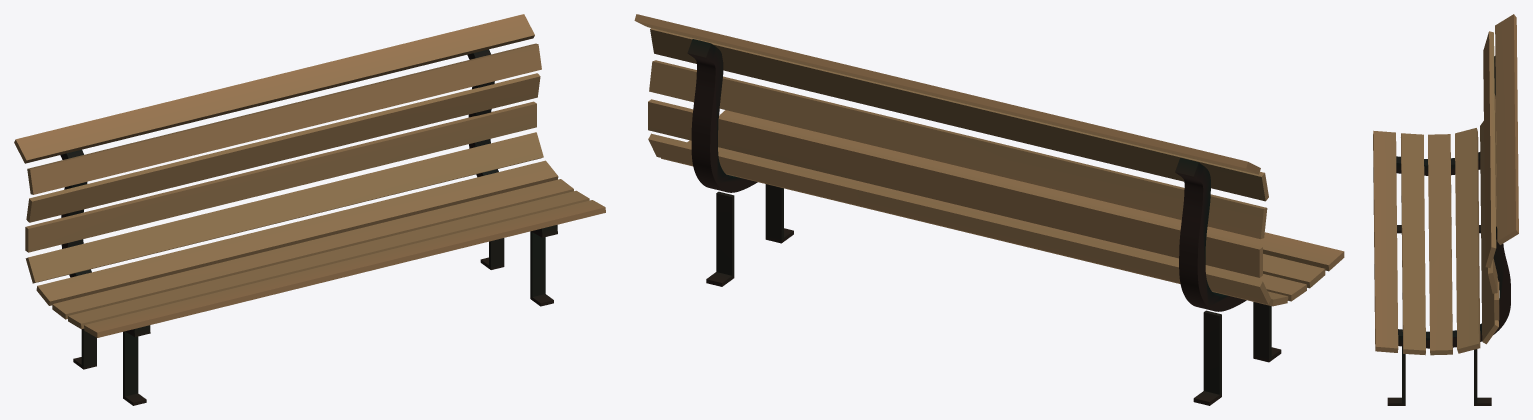
3 views of the same model, side by side, from view 1: azimuth 30°, elevation 25°; view 2: azimuth 150°, elevation 25°; view 3: azimuth 270°, elevation 25° (orthographic). The views are drawn at different scales.
Parts seen in each view (by area): view 1: wood_slat.007, wood_slat.004, wood_slat.008, wood_slat.005, wood_slat.006, wood_slat.003, wood_slat, wood_slat.002, wood_slat.001, leg, leg.002, curved_strap (+1 smaller); view 2: wood_slat.006, wood_slat.005, wood_slat.007, wood_slat.004, wood_slat.008, wood_slat, curved_strap.001, curved_strap, wood_slat.002, leg.001, leg.003, wood_slat.001 (+3 smaller); view 3: wood_slat.003, wood_slat, wood_slat.001, wood_slat.002, wood_slat.008, wood_slat.007, wood_slat.004, curved_strap, wood_slat.006, curved_strap.001, wood_slat.005, leg.001 (+1 smaller).
Boxes of the visible parts, <box> form: wood_slat.007: <box>27,43,541,194</box>; wood_slat.004: <box>25,132,543,283</box>; wood_slat.008: <box>14,14,534,163</box>; wood_slat.005: <box>25,101,536,252</box>; wood_slat.006: <box>26,73,540,222</box>; wood_slat.003: <box>36,160,558,305</box>; wood_slat: <box>84,200,605,337</box>; wood_slat.002: <box>52,179,573,319</box>; wood_slat.001: <box>68,190,589,329</box>; leg: <box>530,231,545,296</box>; leg.002: <box>123,331,138,396</box>; curved_strap: <box>467,49,557,237</box>; wood_slat.006: <box>649,60,1267,239</box>; wood_slat.005: <box>648,99,1262,277</box>; wood_slat.007: <box>650,28,1268,201</box>; wood_slat.004: <box>648,133,1270,304</box>; wood_slat.008: <box>634,14,1260,174</box>; wood_slat: <box>719,110,1344,271</box>; curved_strap.001: <box>1175,158,1246,311</box>; curved_strap: <box>687,39,757,192</box>; wood_slat.002: <box>687,140,1306,301</box>; leg.001: <box>716,191,734,275</box>; leg.003: <box>1203,310,1221,394</box>; wood_slat.001: <box>1263,254,1325,288</box>; wood_slat.003: <box>1455,128,1480,353</box>; wood_slat: <box>1373,130,1398,352</box>; wood_slat.001: <box>1401,133,1425,355</box>; wood_slat.002: <box>1428,134,1452,355</box>; wood_slat.008: <box>1495,14,1518,244</box>; wood_slat.007: <box>1483,31,1496,267</box>; wood_slat.004: <box>1480,121,1498,344</box>; curved_strap: <box>1398,226,1510,348</box>; wood_slat.006: <box>1488,94,1497,293</box>; curved_strap.001: <box>1396,56,1495,175</box>; wood_slat.005: <box>1494,99,1499,320</box>; leg.001: <box>1474,349,1477,403</box>.
Bounding box in the file's own units: 1.8 × 0.7579 × 0.5148.
